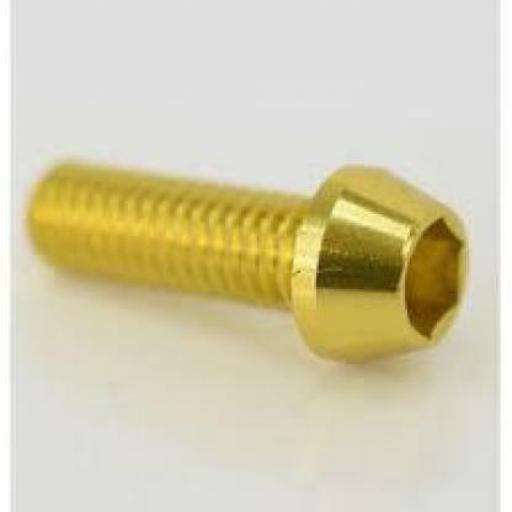Bolt: (24, 160, 471, 364)
